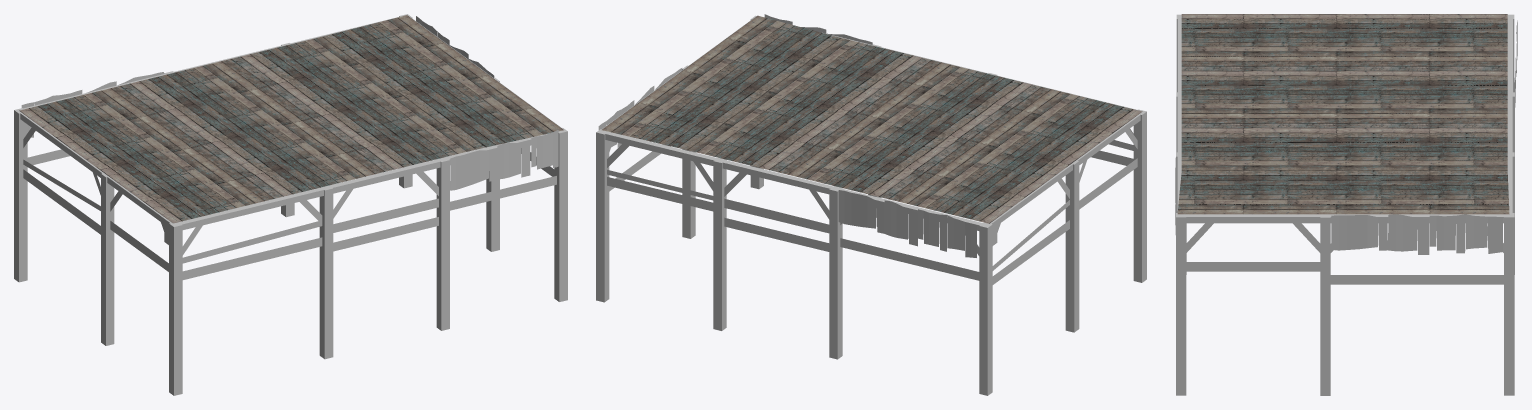
Rendered from Platform3_LOD2.fbx.
3 views of the same model, side by side, from view 1: azimuth 30°, elevation 25°; view 2: azimuth 150°, elevation 25°; view 3: azimuth 270°, elevation 25° (orthographic). The views are drawn at different scales.
Visible parts, largest first — view 1: polySurface3444; view 2: polySurface3444; view 3: polySurface3444.
Boxes of the visible parts, x1=… form: polySurface3444: x1=14, y1=14, x2=567, y2=395; polySurface3444: x1=596, y1=14, x2=1146, y2=395; polySurface3444: x1=1175, y1=14, x2=1517, y2=395.
Bounding box in the file's own units: 13.96 × 5.81 × 9.89.
